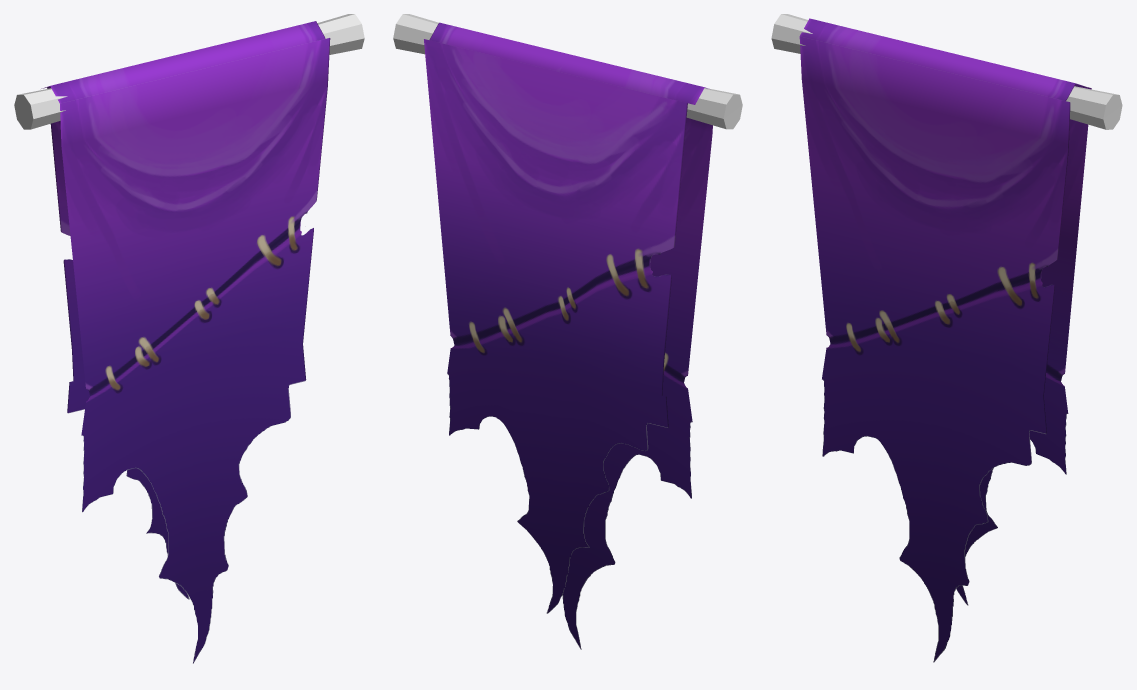
File: mesh_banner_purple.fbx
3 renders of one model, left to right at view 1: azimuth 30°, elevation 25°; view 2: azimuth 150°, elevation 25°; view 3: azimuth 330°, elevation 25°, orthographic.
Visible parts, largest first — view 1: mesh_banner_purple; view 2: mesh_banner_purple; view 3: mesh_banner_purple.
Boxes of the visible parts, bbox=[...] form: mesh_banner_purple: bbox=[14, 14, 364, 663]; mesh_banner_purple: bbox=[393, 14, 742, 649]; mesh_banner_purple: bbox=[771, 14, 1122, 662].
Bounding box in the file's own units: 61.86 × 6.64 × 110.
